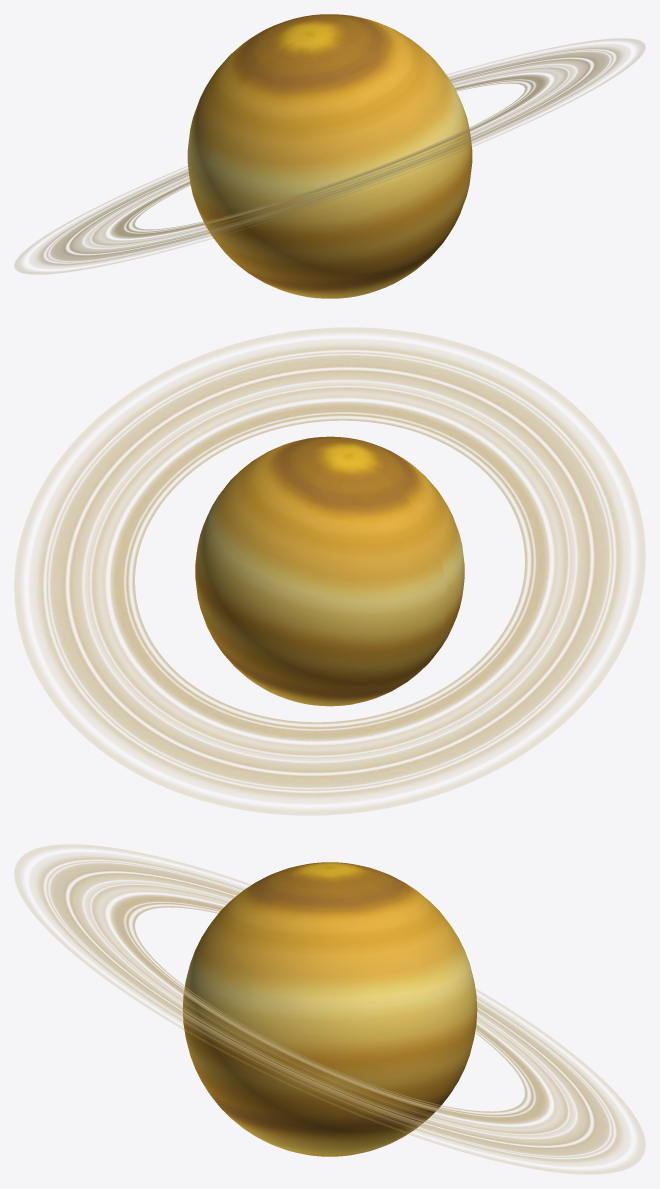
File: gen-ringed.glb
3 views of the same model, one above another, from view 1: azimuth 30°, elevation 25°; view 2: azimuth 150°, elevation 25°; view 3: azimuth 270°, elevation 25° (orthographic). The views are drawn at different scales.
Parts seen in each view (by area): view 1: glint-ringed; view 2: glint-ringed; view 3: glint-ringed.
Part boxes in pixels (x1,y1,x2,y2): glint-ringed: (14, 14, 645, 298); glint-ringed: (14, 328, 645, 814); glint-ringed: (14, 844, 645, 1174).
Size of the model in its own units: 4.65 by 2.03 by 4.29.
2 materials, 2 textured.
